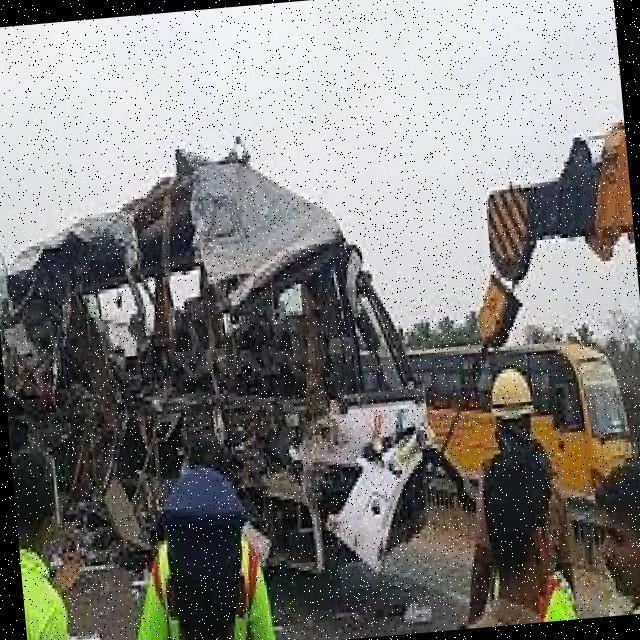accident: (0, 132, 447, 590)
